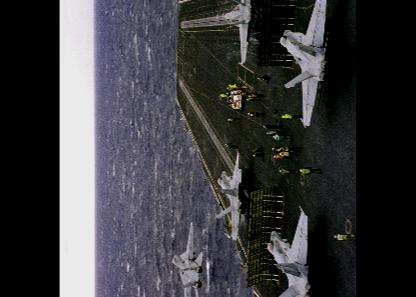EF2000: (171, 220, 204, 295)
F15: (280, 0, 334, 128), (267, 202, 317, 295), (216, 147, 249, 239), (224, 0, 260, 64)
